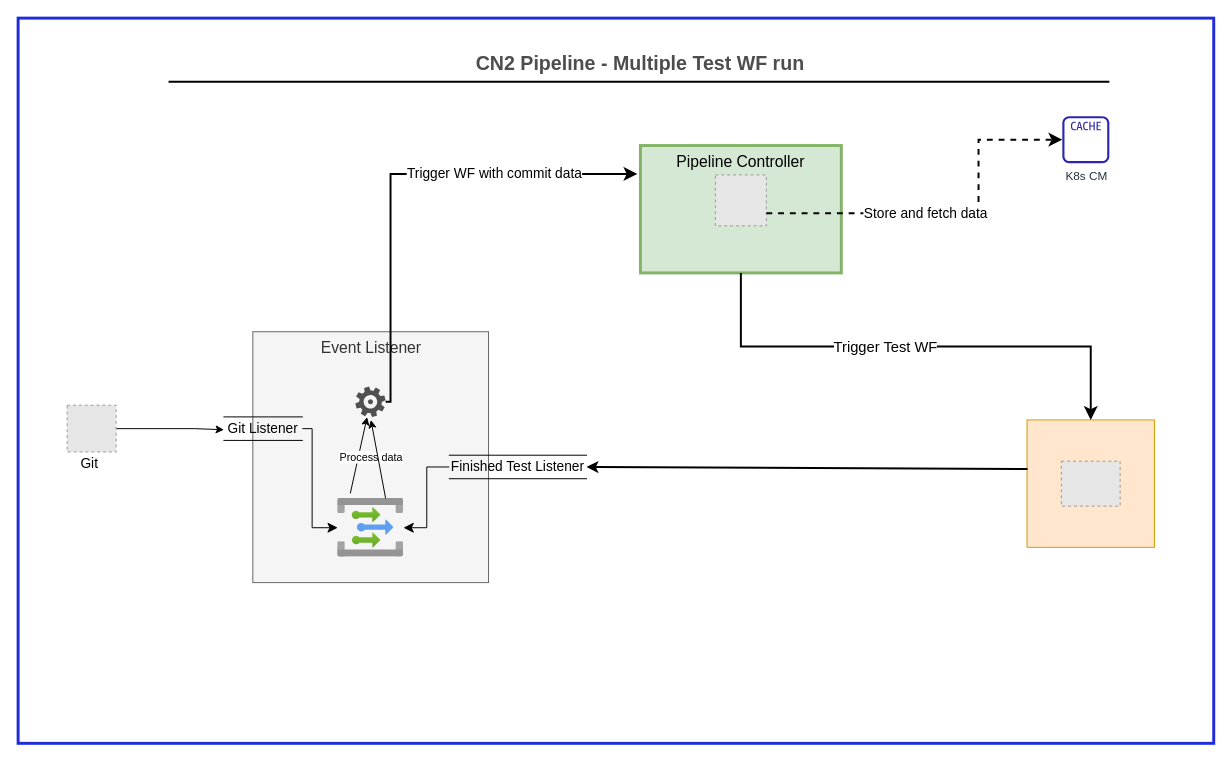
Some shapes in this 1232 by 761 pixel diagram are drawn without their labels. Grey dashed boxes stand in for pictures. Each missing label, with the box of its shape:
Event Monitoring: (337, 498, 403, 557)
Test Workflow: (1026, 419, 1154, 547)
